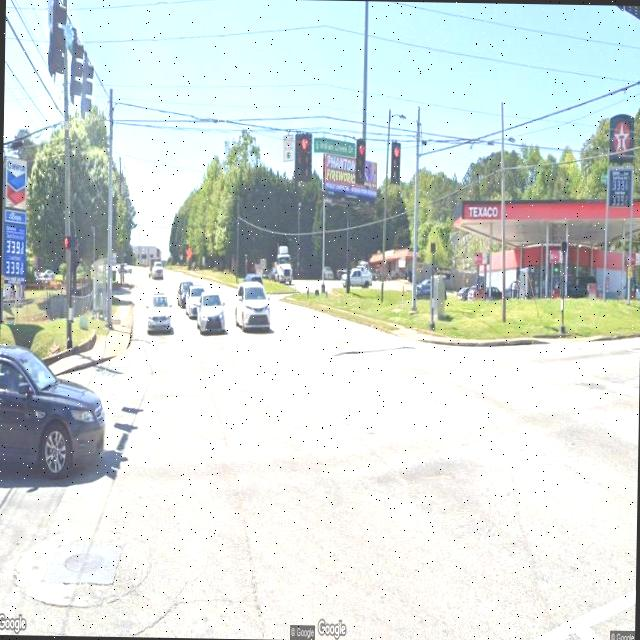shelter: (90, 256, 108, 320)
